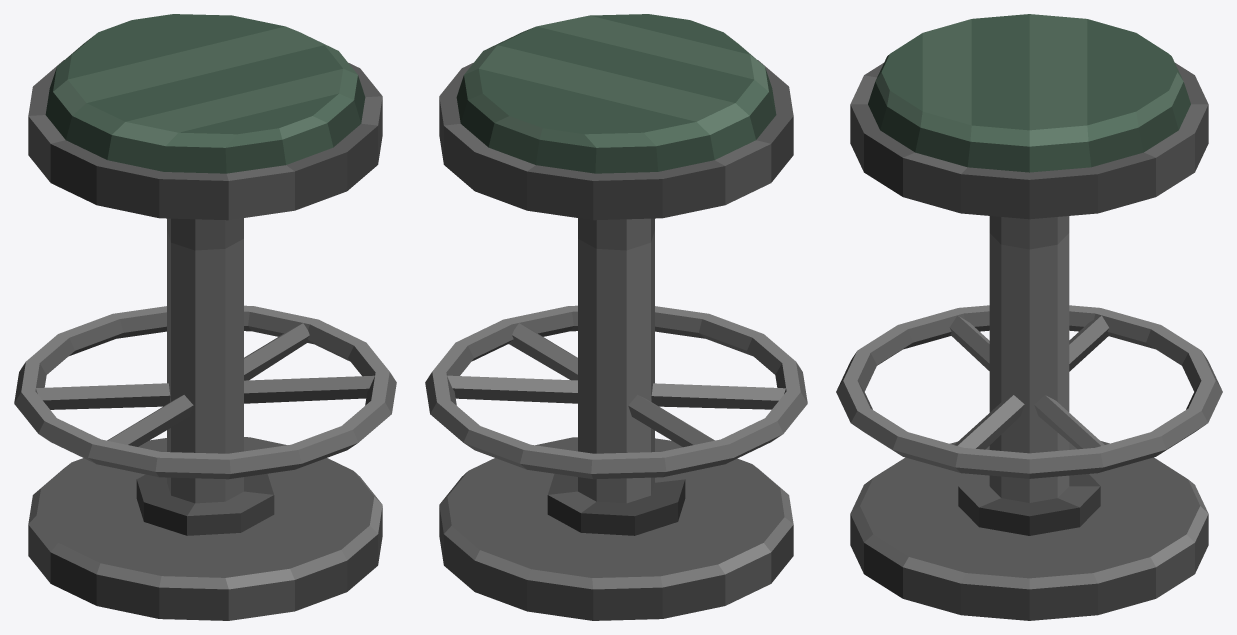
File: CR_Lab2_Stool.fbx
The picture shows the model from 3 angles, left to right: view 1: azimuth 30°, elevation 25°; view 2: azimuth 150°, elevation 25°; view 3: azimuth 270°, elevation 25°; orthographic projection.
Parts seen in each view (by area): view 1: CR_Lab2_Stool; view 2: CR_Lab2_Stool; view 3: CR_Lab2_Stool.
Part boxes in pixels (x1,y1,x2,y2): CR_Lab2_Stool: (14,14,396,620); CR_Lab2_Stool: (425,14,807,620); CR_Lab2_Stool: (836,14,1222,620).
Size of the model in its own units: 0.4586 by 0.6188 by 0.4586.
